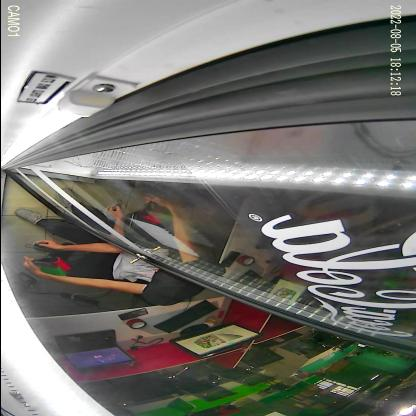green: (32, 260, 66, 276)
red: (30, 256, 70, 272)
